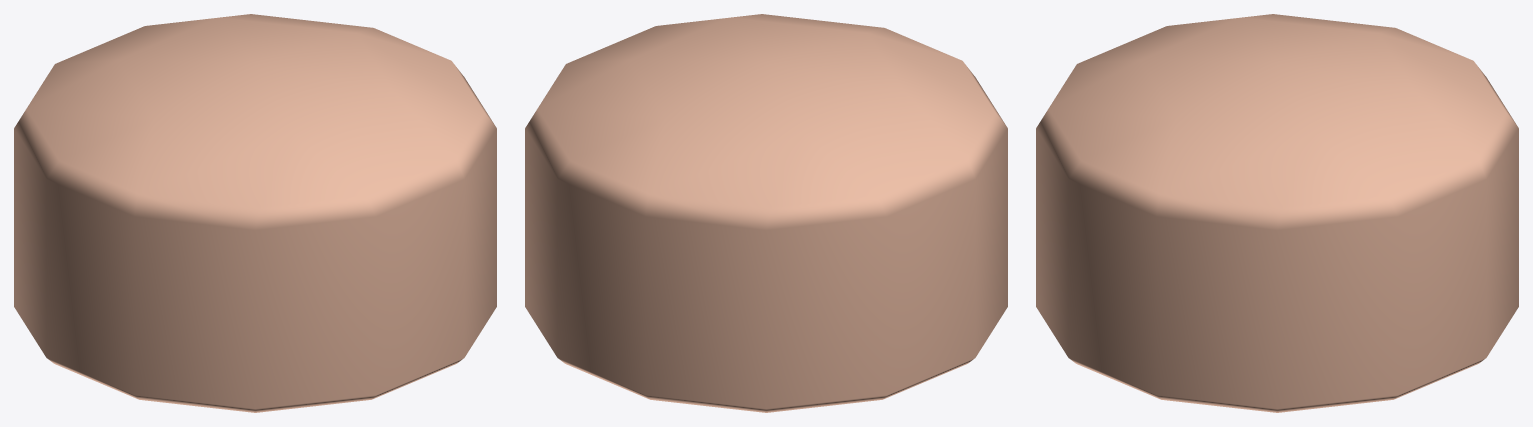
Rendered from chair_007.fbx.
3 views of the same model, side by side, from view 1: azimuth 30°, elevation 25°; view 2: azimuth 150°, elevation 25°; view 3: azimuth 270°, elevation 25° (orthographic).
Parts seen in each view (by area): view 1: chair_007; view 2: chair_007; view 3: chair_007.
Part boxes in pixels (x1,y1,x2,y2): chair_007: (14, 14, 496, 412); chair_007: (525, 14, 1007, 412); chair_007: (1036, 14, 1518, 412).
Bounding box in the file's own units: 99.3 × 99.3 × 57.
